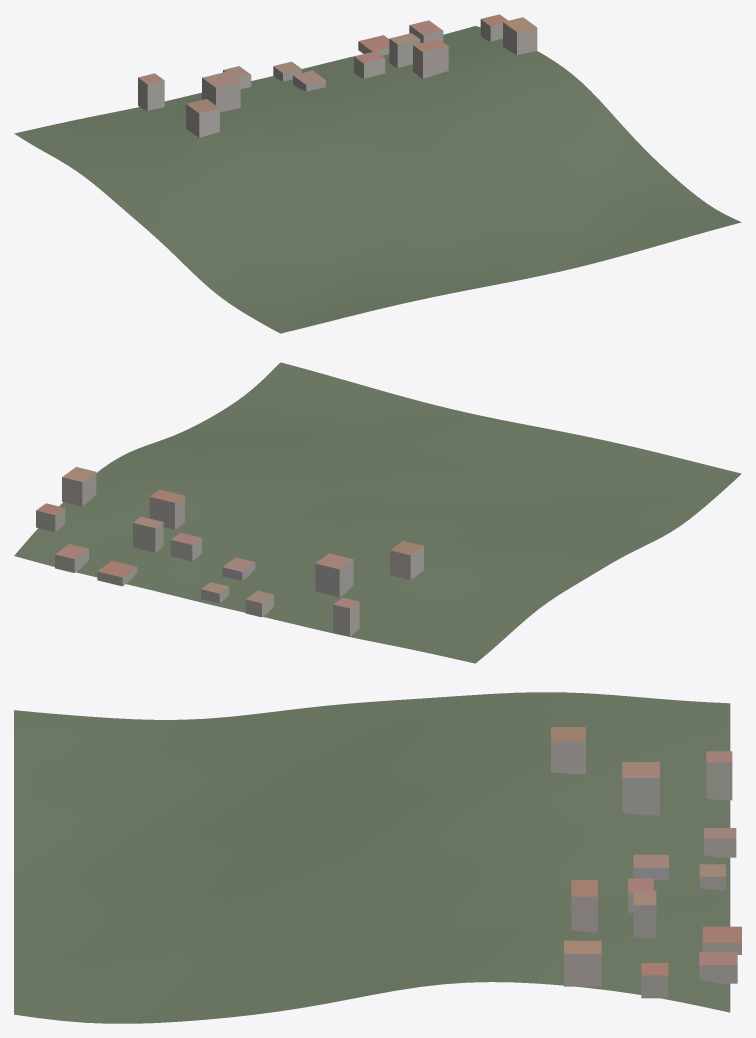
The picture shows the model from 3 angles, top to bottom: view 1: azimuth 30°, elevation 25°; view 2: azimuth 150°, elevation 25°; view 3: azimuth 270°, elevation 25°; orthographic projection. The views are drawn at different scales.
Bounding box in the file's own units: 301 × 33.65 × 305.
